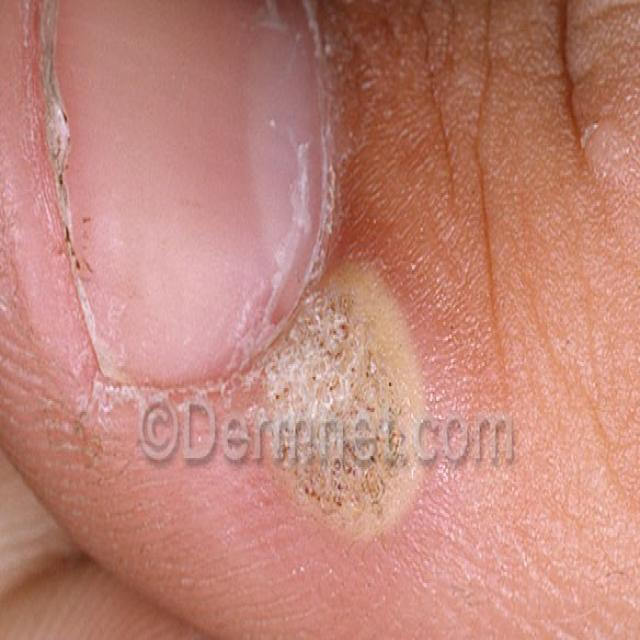Warts: (264, 244, 414, 520)
